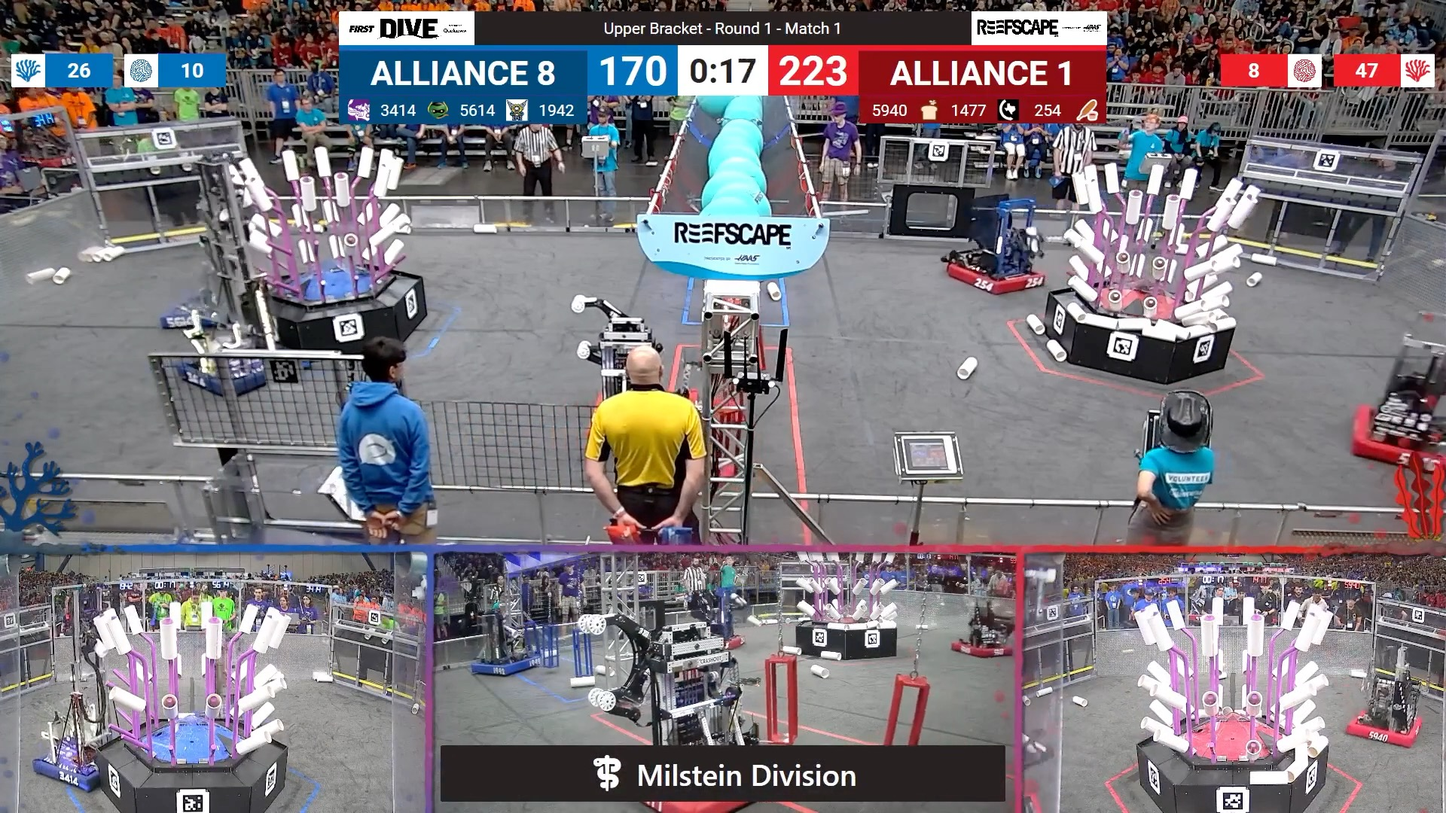bumpers: (1349, 401, 1446, 473), (161, 350, 300, 397), (937, 254, 1052, 299), (1338, 704, 1431, 751), (32, 740, 118, 790), (162, 284, 238, 335), (465, 654, 542, 681), (947, 634, 1015, 660)
